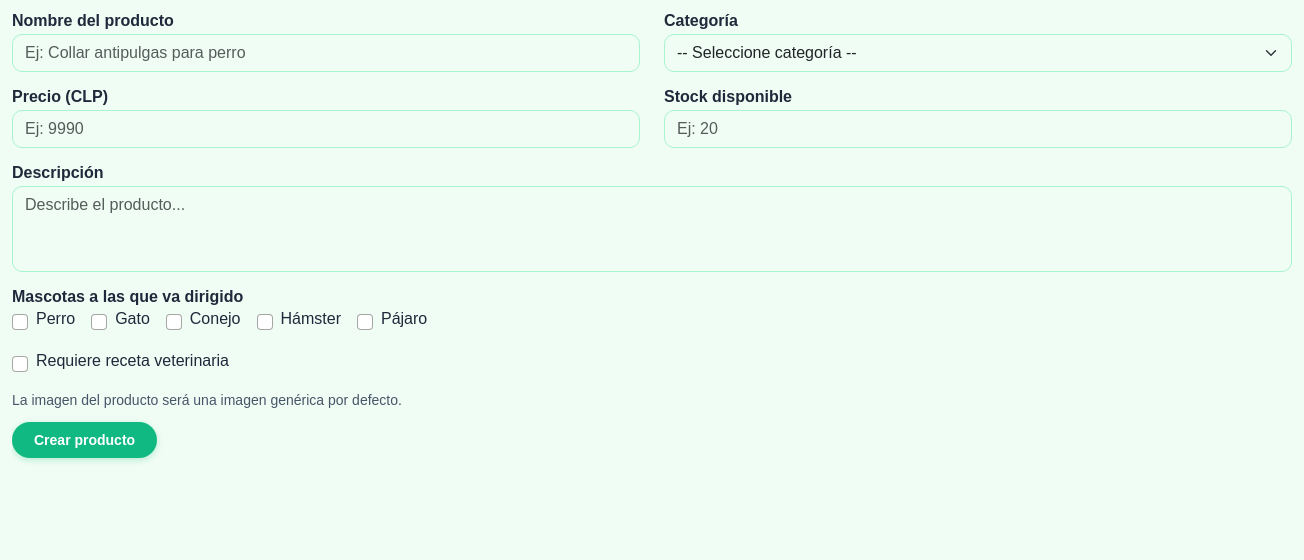
Test case: FormularioProducto (Panel de Control) › no crea el producto si faltan datos y muestra los errores
This screenshot has width=1304, height=560.
Click the button "Crear producto": (85, 440) [12,422,157,458]
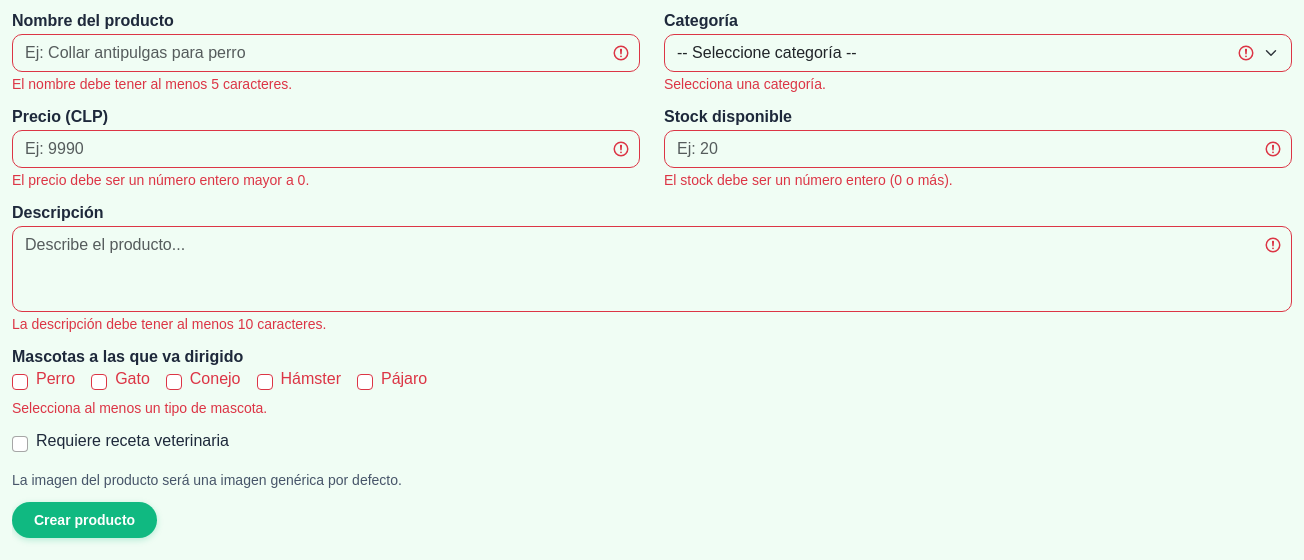
Now the text "Selecciona una categoría." is shown, box [664,76,826,92]
Now the text "Selecciona al menos un tipo de mascota." is shown, box [12,400,267,416]
